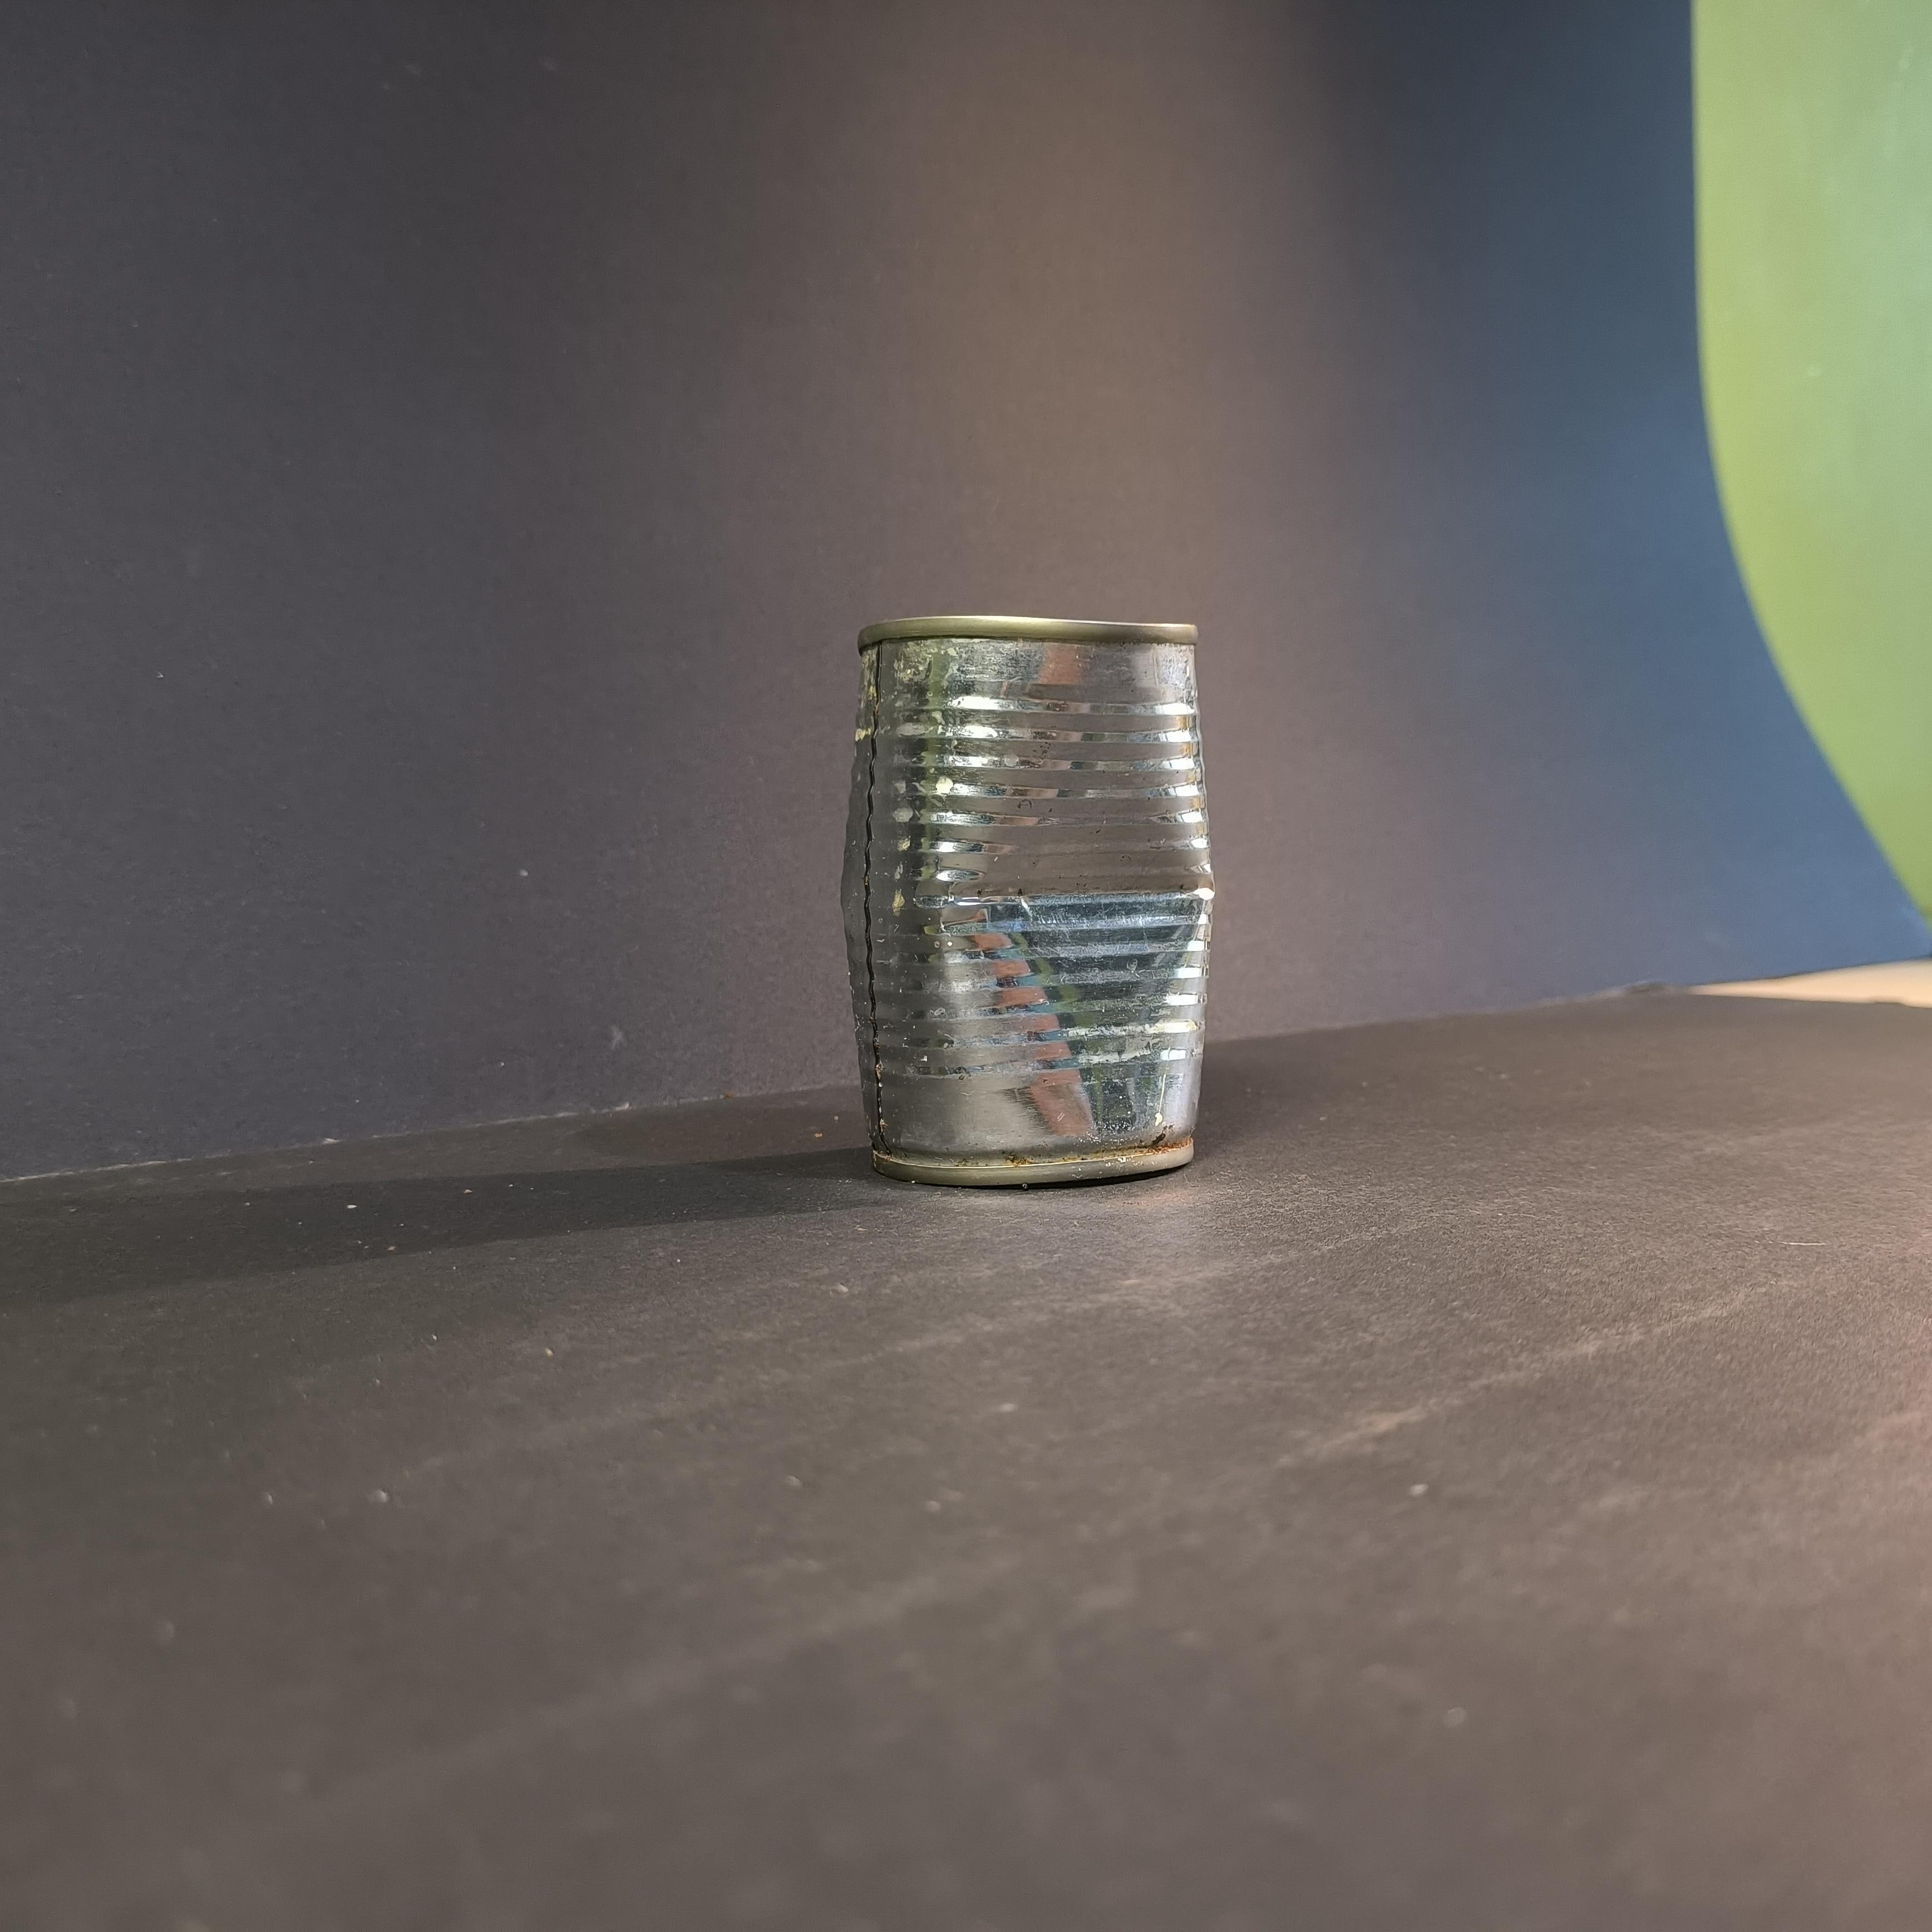Dented: (826, 579, 1240, 1194)
